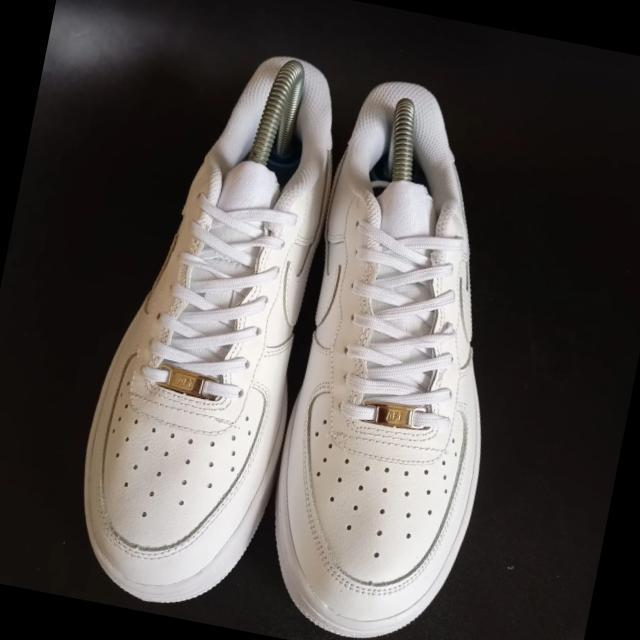nike fake air force: (52, 36, 354, 628), (248, 69, 555, 640)
